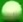white: (0, 0, 23, 22)
